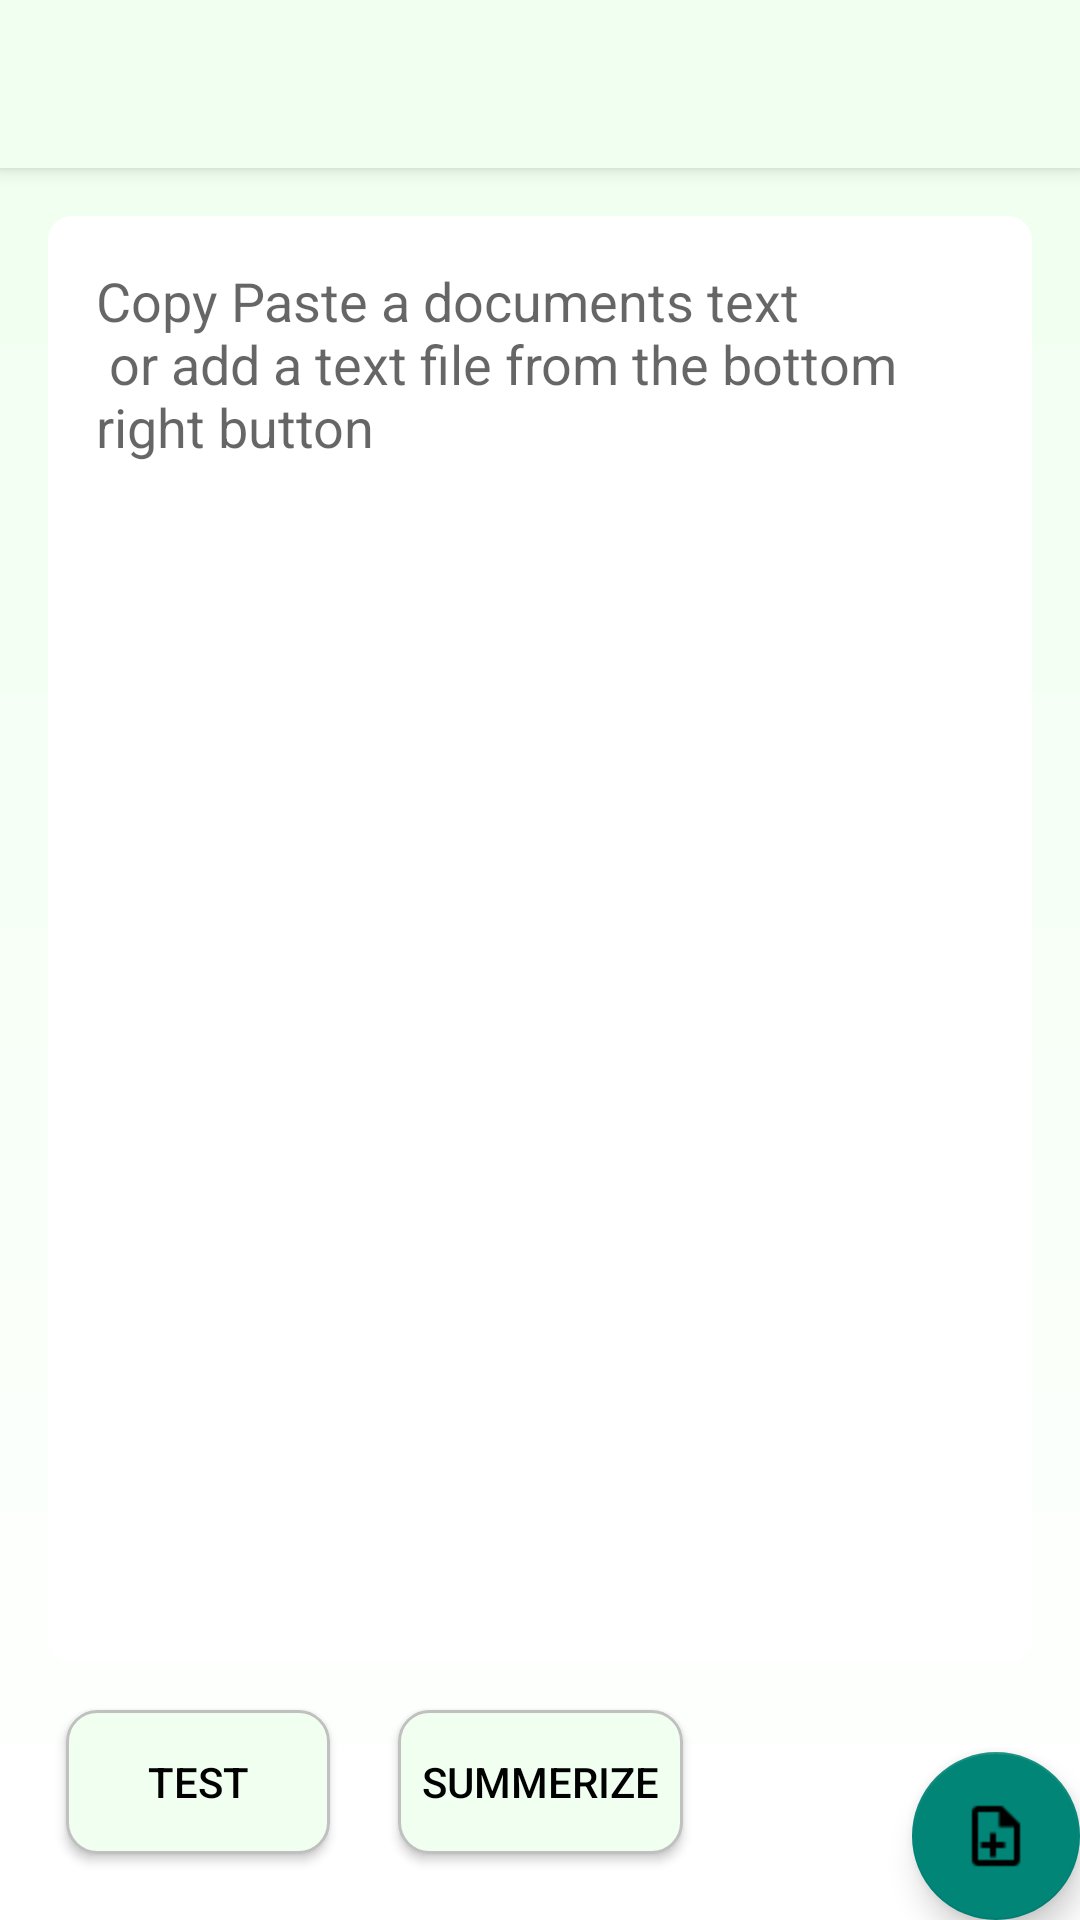

Screen size 1080*1920. Icon name, then its center in pixels as (x=x, y=y):
fileplus: (x=996, y=1836)
